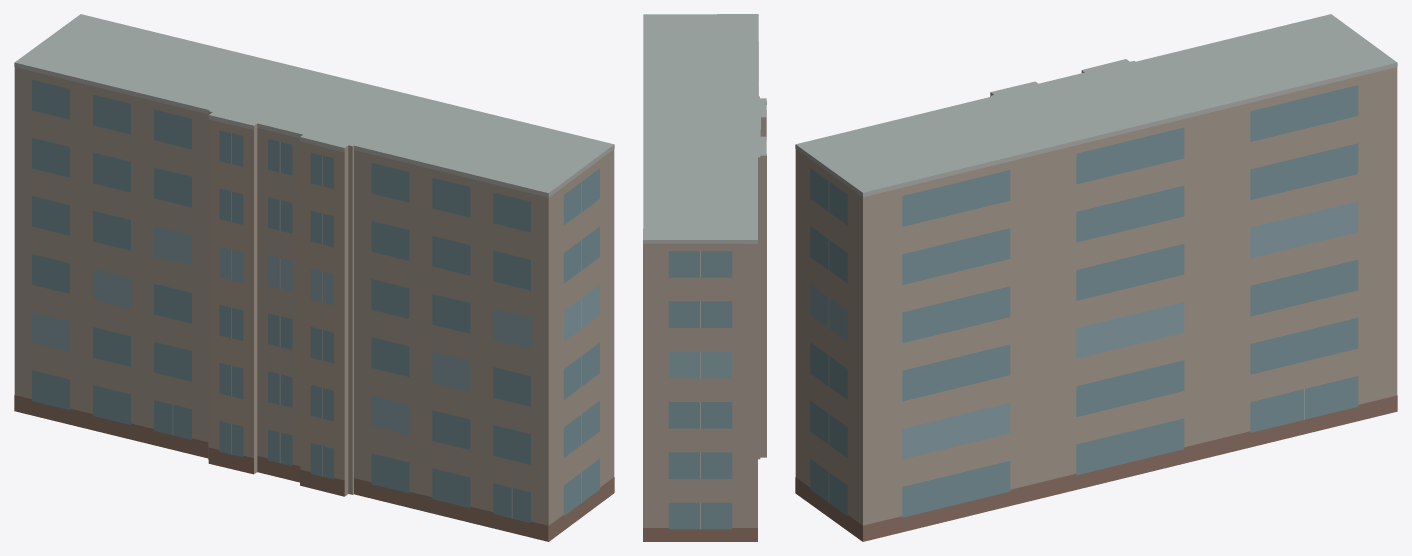
Rendered from survey-upis-32915971.glb.
The picture shows the model from 3 angles, left to right: view 1: azimuth 30°, elevation 25°; view 2: azimuth 150°, elevation 25°; view 3: azimuth 270°, elevation 25°; orthographic projection. The views are drawn at different scales.
Visible parts, largest first — view 1: survey-upis-32915971.tmp; view 2: survey-upis-32915971.tmp; view 3: survey-upis-32915971.tmp.
Boxes of the visible parts, left/top/right/bottom form: survey-upis-32915971.tmp: left=14, top=14, right=614, bottom=541; survey-upis-32915971.tmp: left=643, top=14, right=766, bottom=541; survey-upis-32915971.tmp: left=795, top=14, right=1397, bottom=541.
Bounding box in the file's own units: 21 × 19.1 × 29.86.
